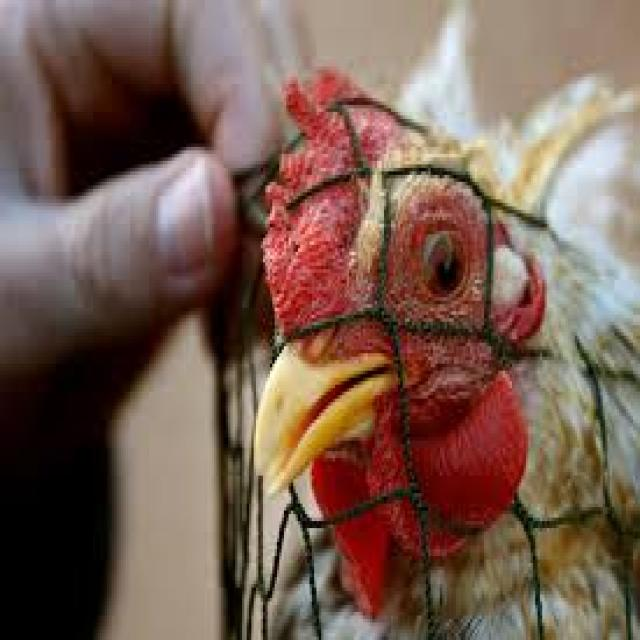bird flu: (246, 68, 640, 606)
